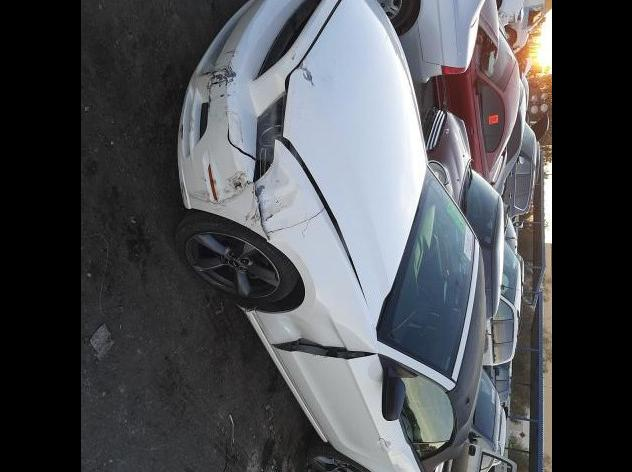Broken part: (178, 0, 345, 241), (274, 132, 367, 305), (265, 336, 379, 363)
Dent: (263, 294, 356, 350), (255, 158, 296, 226)
Paint chip: (177, 154, 264, 235), (198, 61, 242, 110), (234, 108, 245, 144), (177, 110, 186, 147), (222, 45, 241, 58), (221, 108, 237, 119), (186, 112, 194, 133), (288, 50, 299, 65)
Scratch: (197, 50, 237, 112), (218, 169, 252, 204), (189, 188, 226, 208), (224, 105, 243, 143), (296, 61, 316, 86), (244, 194, 258, 224), (300, 220, 310, 239), (180, 181, 187, 204), (219, 89, 236, 98), (178, 124, 183, 140), (289, 54, 295, 61)
